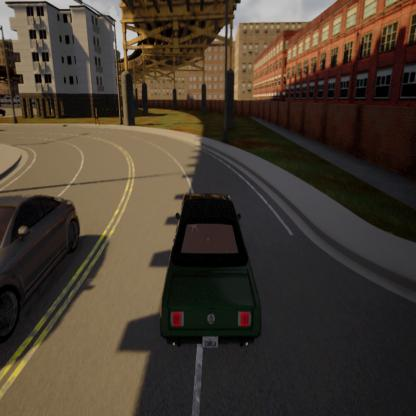Cars: (148, 186, 271, 372), (0, 158, 86, 386)
Pedestrian: (90, 100, 108, 135)
